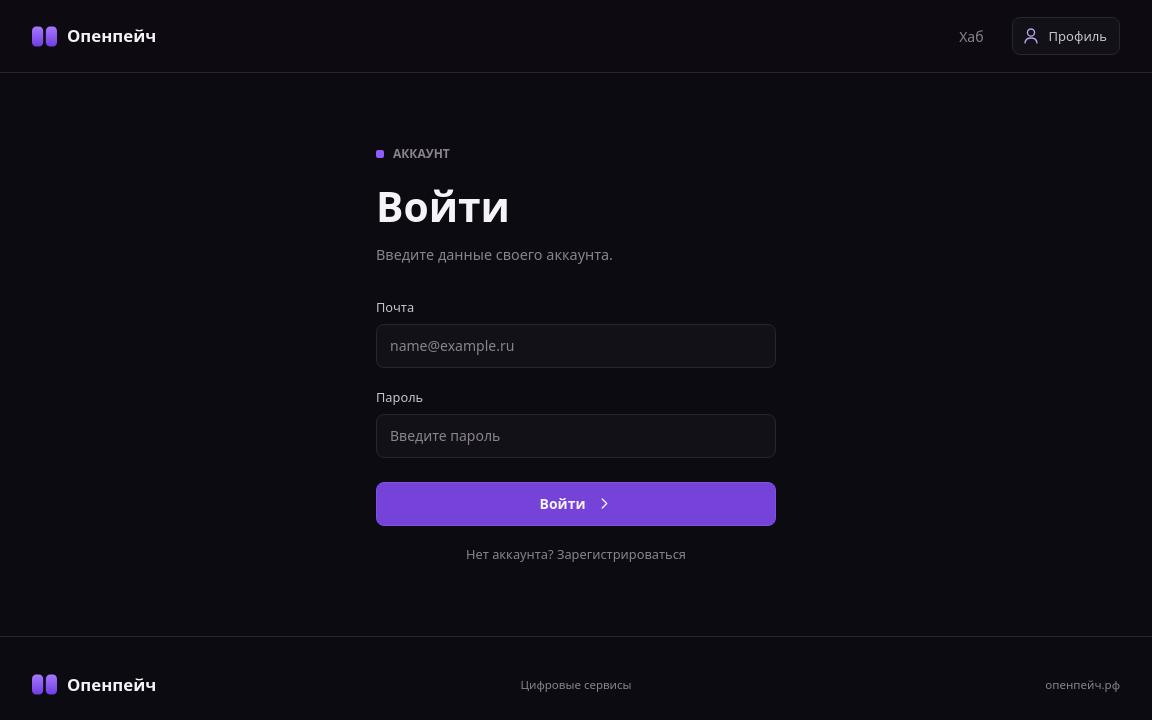
it: авторизация и маршруты › ведёт на /hub после обычного входа
Check: the heading "Войти" is shown, box [376,178,510,234]
Type "anna@example.ru" into the field labelled "Почта" at [576, 346], box [376,324,776,368]
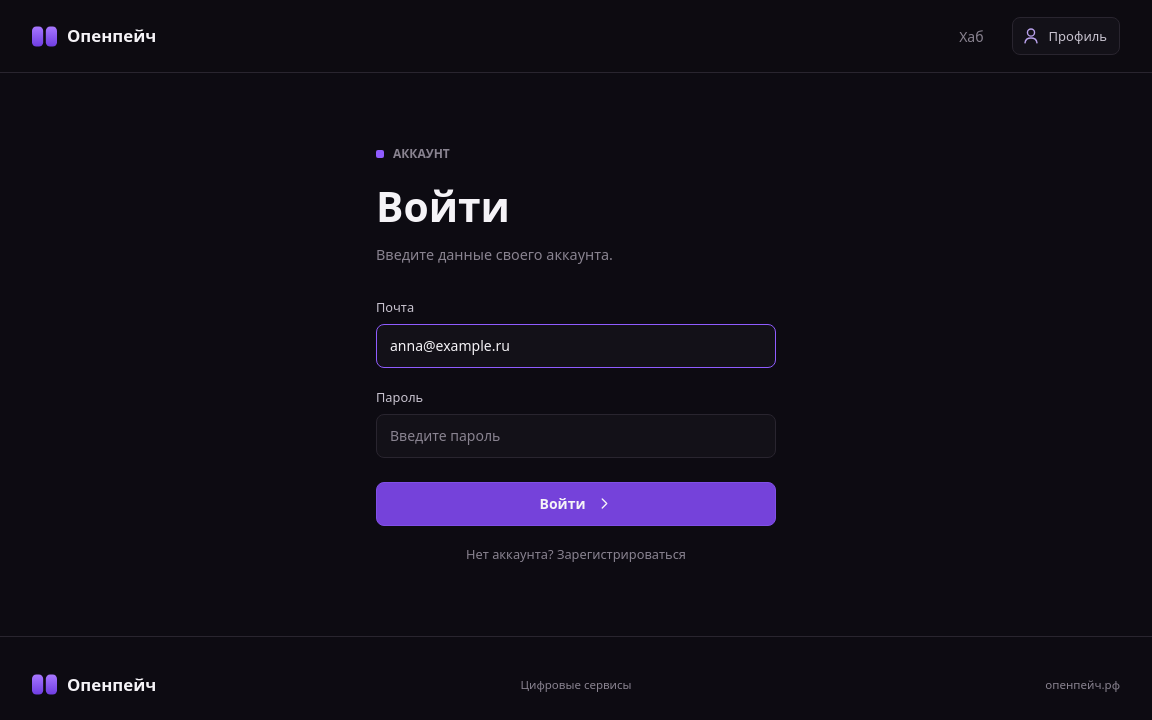
Type "secret-password" into the password field labelled "Пароль" at [576, 436], box [376,414,776,458]
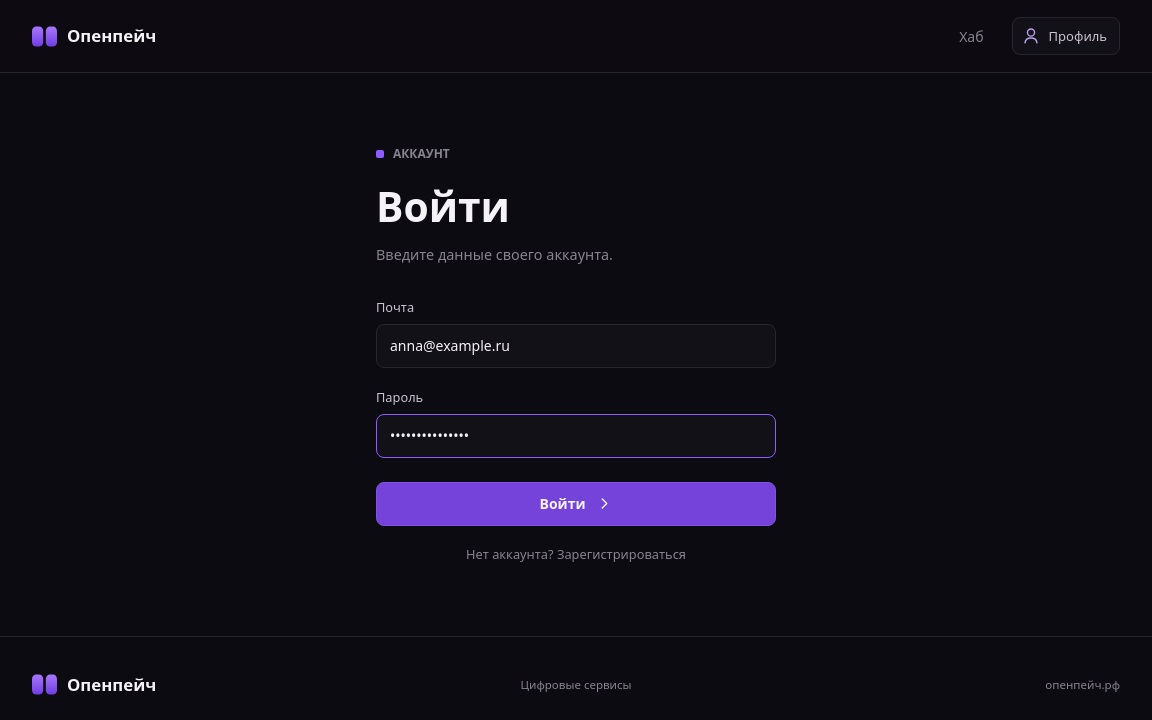
Click the button "Войти" at [576, 504], box [376,482,776,526]
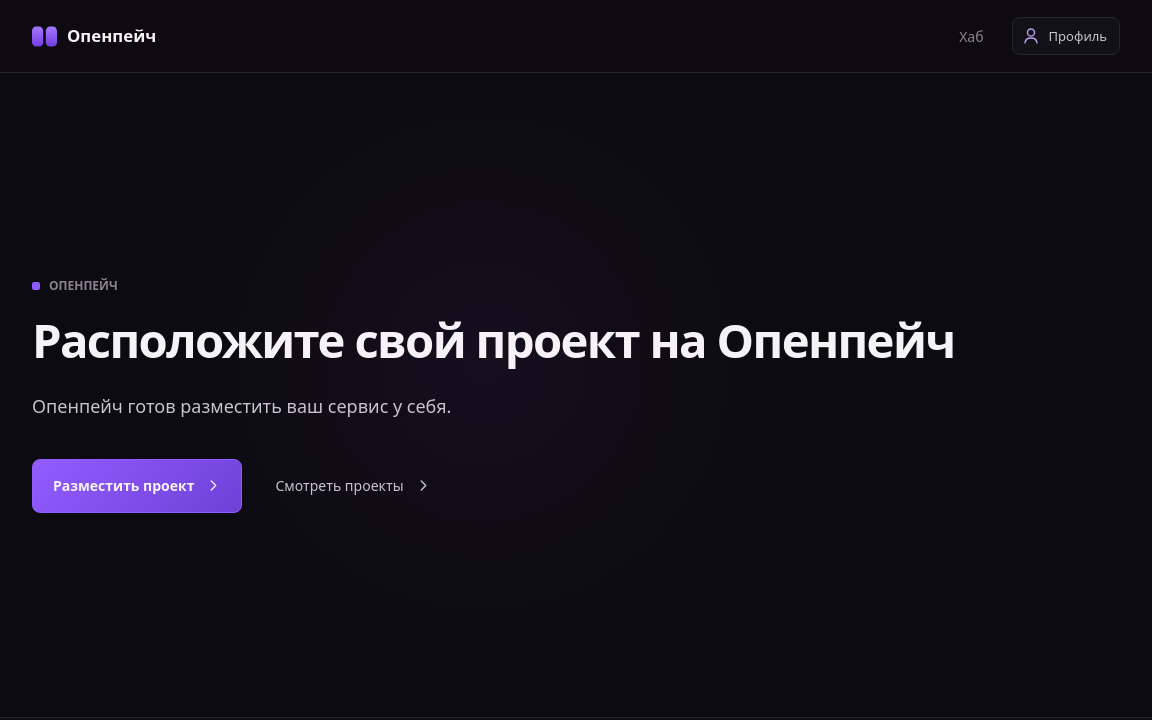
Check: the heading "Расположите свой проект на Опенпейч" is shown, box [32,316,954,365]
